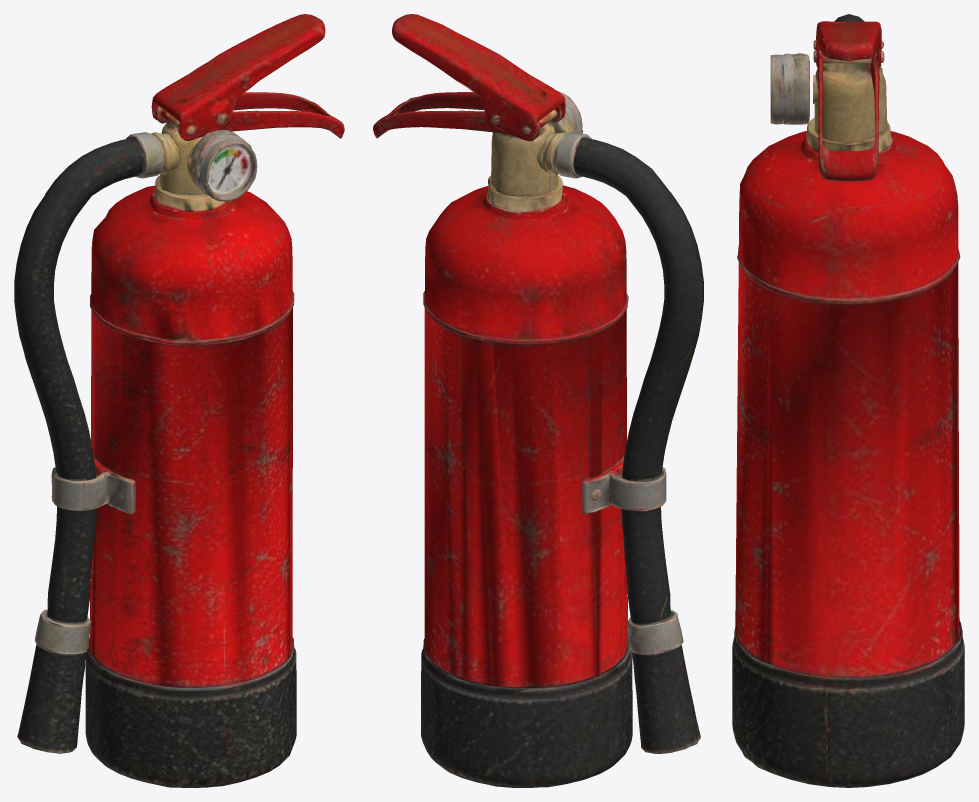
The model's file is sammutin.glb.
3 renders of one model, left to right at view 1: azimuth 30°, elevation 25°; view 2: azimuth 150°, elevation 25°; view 3: azimuth 270°, elevation 25°, orthographic. The views are drawn at different scales.
Size of the model in its own units: 0.1899 by 0.4 by 0.1099.
1 material, 1 textured.
